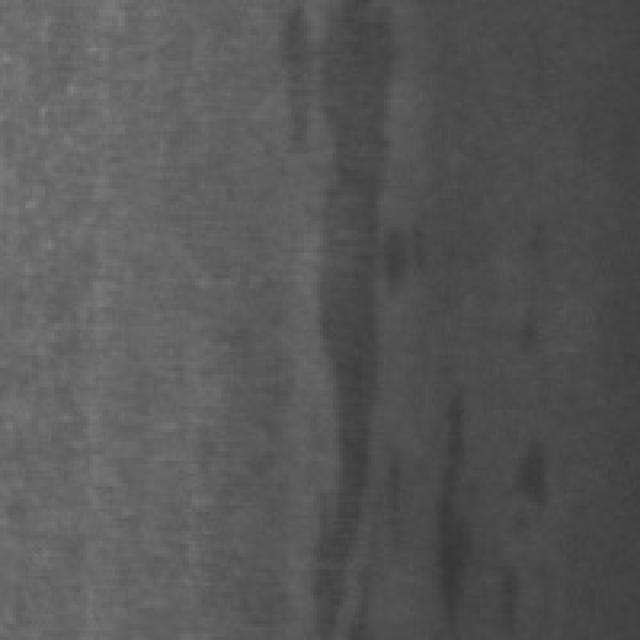inclusion: (252, 0, 406, 630), (413, 364, 493, 618), (502, 428, 554, 522)
